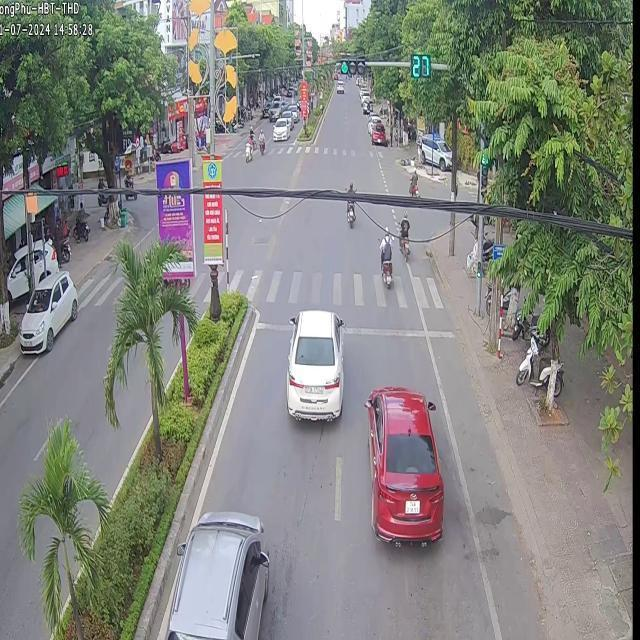car: (166, 509, 267, 638), (363, 385, 442, 540), (284, 309, 343, 420)
green_light: (335, 51, 366, 76), (478, 154, 488, 187)
motobike: (378, 225, 390, 287), (397, 209, 408, 258)
stop_line: (253, 321, 454, 336)
